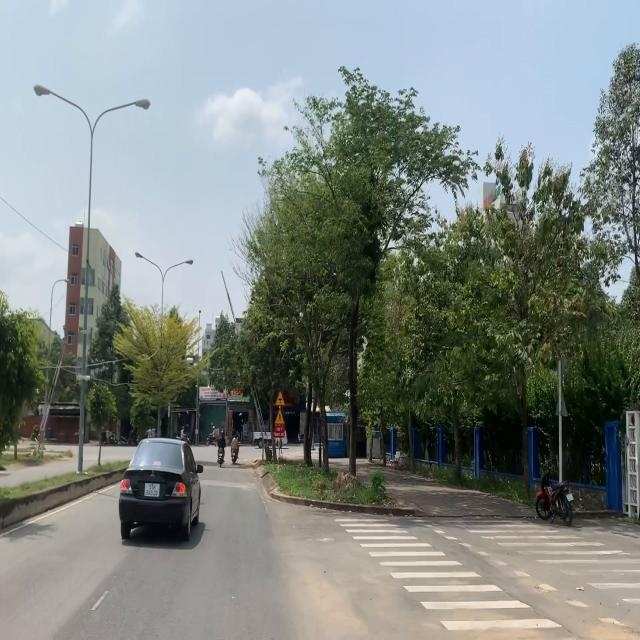bien_nguy_hiem: (274, 408, 286, 425), (275, 390, 286, 407)
